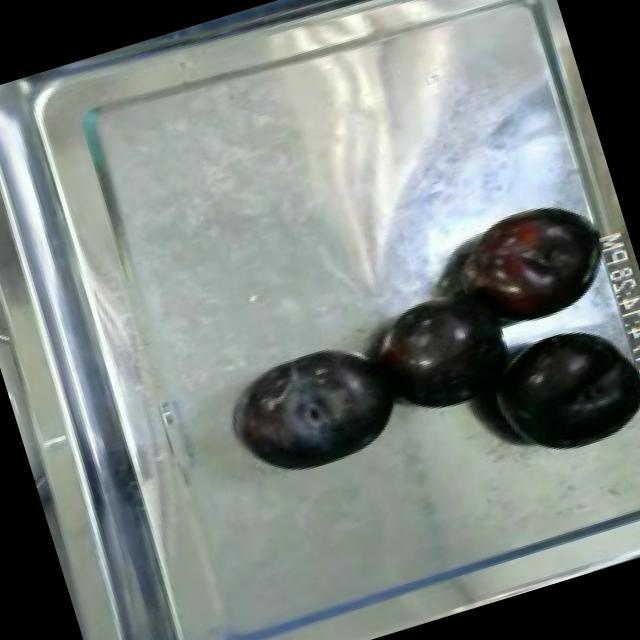Fruit: (216, 326, 419, 492), (432, 182, 619, 352), (352, 271, 536, 433), (469, 303, 640, 474)
